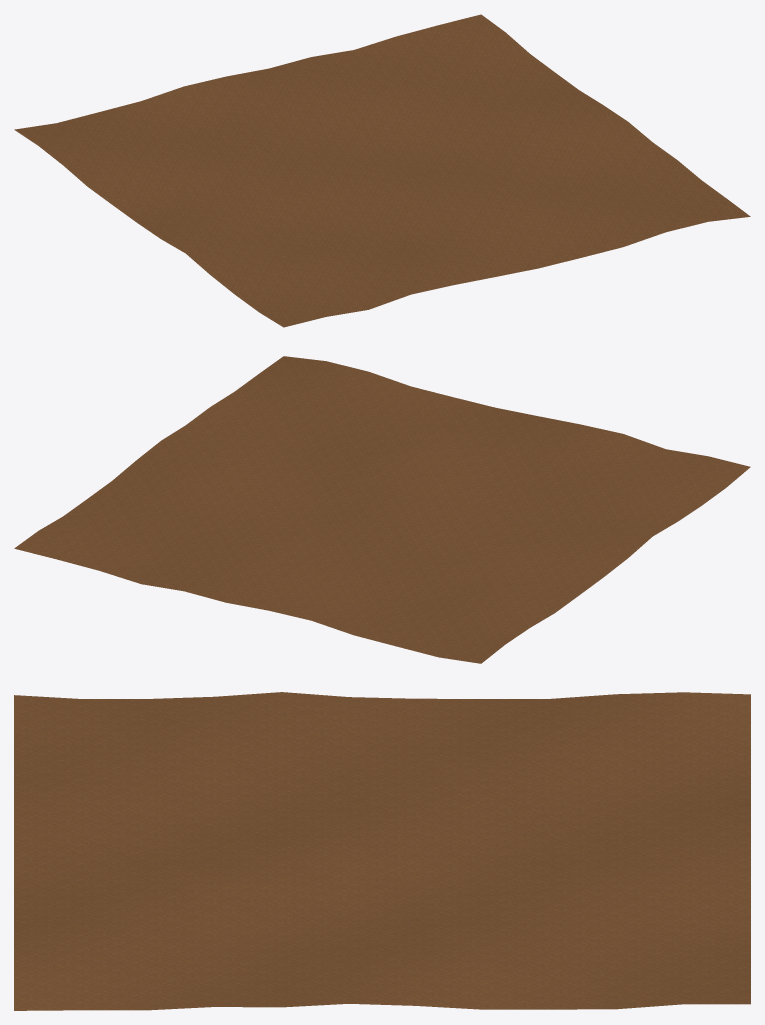
The model's file is mars2.glb.
The picture shows the model from 3 angles, top to bottom: view 1: azimuth 30°, elevation 25°; view 2: azimuth 150°, elevation 25°; view 3: azimuth 270°, elevation 25°; orthographic projection. The views are drawn at different scales.
Parts seen in each view (by area): view 1: Plane; view 2: Plane; view 3: Plane.
Part boxes in pixels (box(x1,y1,x2,y2)): Plane: box(14, 14, 750, 327); Plane: box(14, 356, 750, 663); Plane: box(14, 692, 750, 1010).
Bounding box in the file's own units: 500 × 5.8 × 500.
Materials: 1 (1 with a texture image).
